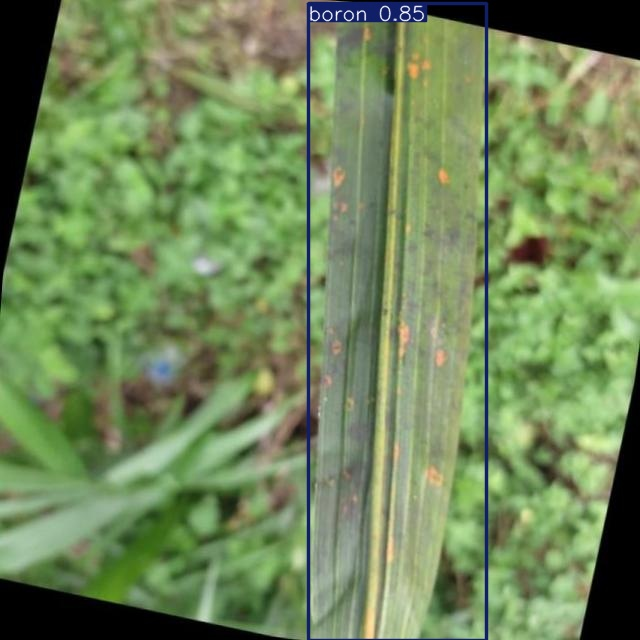nitrogen: (308, 4, 486, 640)
